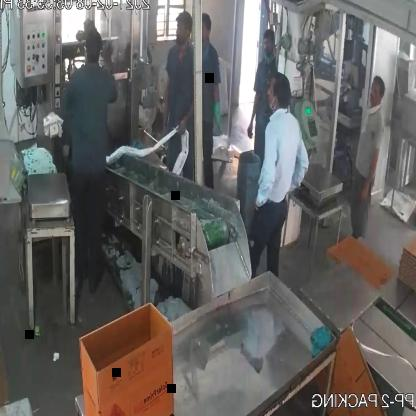glove: (210, 83, 226, 142)
no_glove: (250, 132, 277, 220), (354, 136, 381, 219), (286, 126, 309, 206), (246, 79, 261, 142), (159, 75, 174, 135)
